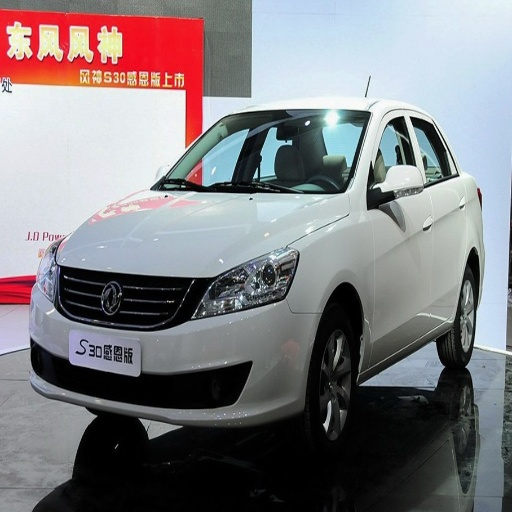front_bumper: (31, 263, 321, 436)
front_glass: (151, 114, 371, 192)
front_left_door: (366, 110, 433, 365)
